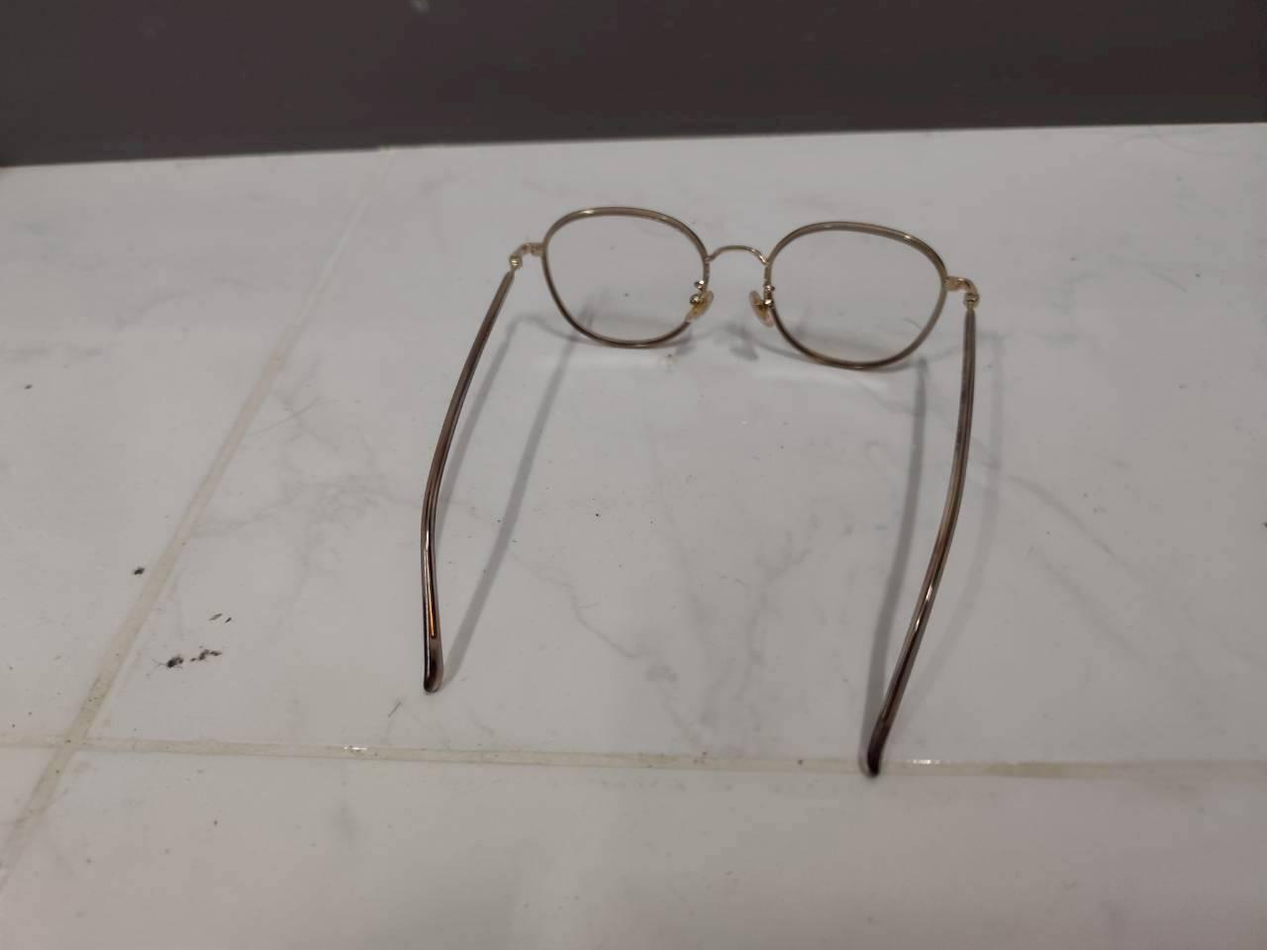glasses: (411, 190, 985, 794)
